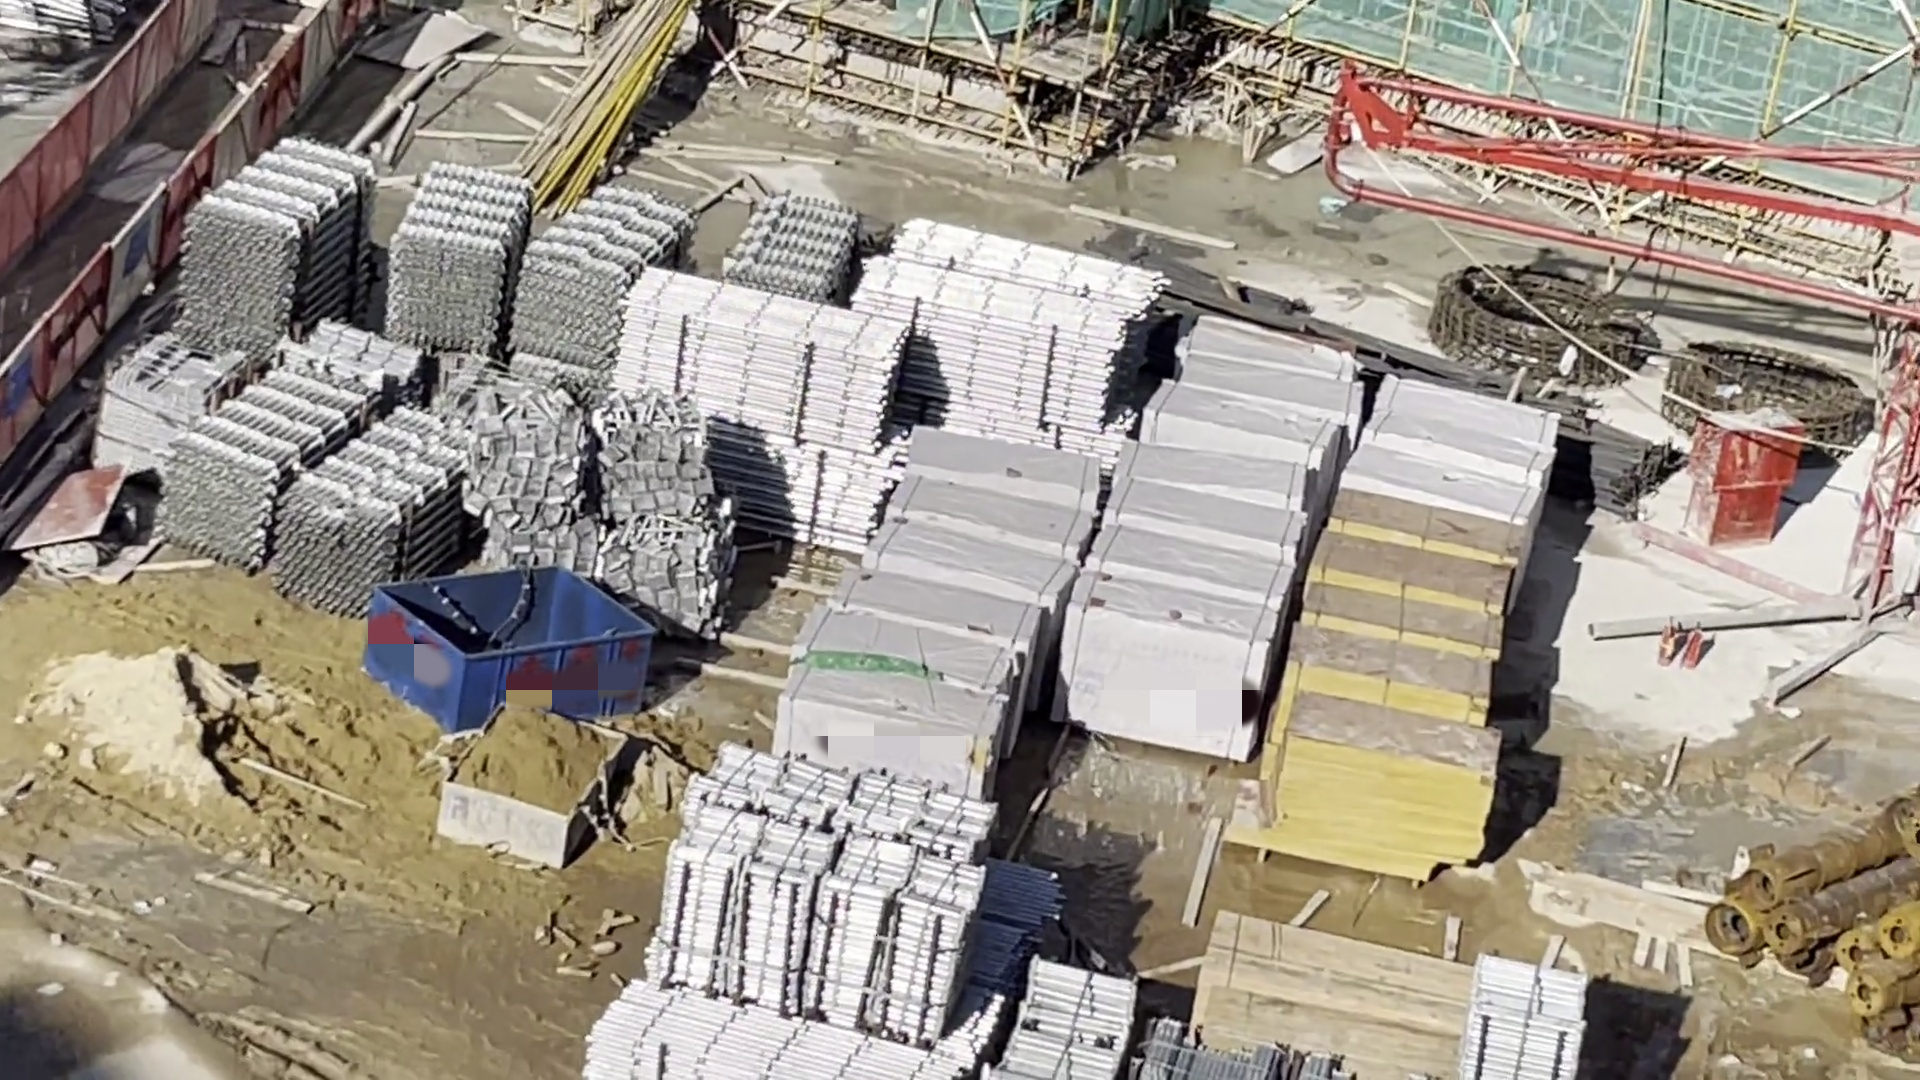board: (1246, 742, 1466, 876), (1316, 504, 1481, 621), (1259, 665, 1487, 724)
fence: (25, 1, 349, 84), (18, 142, 146, 316)
hopper: (388, 549, 641, 741)
rebar: (1727, 742, 1920, 1036), (1556, 402, 1651, 517), (1134, 268, 1263, 314)
scaffold: (708, 727, 919, 997), (185, 345, 464, 527), (164, 113, 349, 351), (961, 857, 1124, 1080), (58, 344, 268, 497), (406, 154, 556, 336), (609, 964, 822, 1080), (514, 225, 699, 351), (1448, 953, 1607, 1080), (756, 193, 876, 252)
wood: (1191, 916, 1502, 1080)
